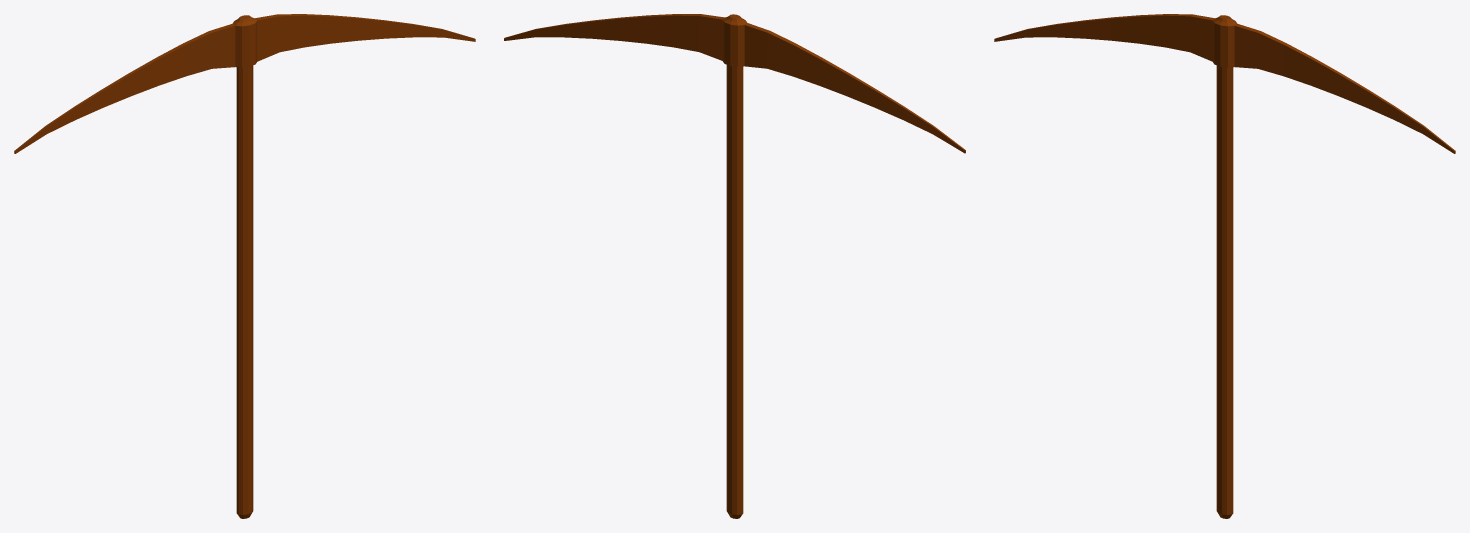
Rendered from Low_Poly_Pickaxe.fbx.
3 views of the same model, side by side, from view 1: azimuth 30°, elevation 25°; view 2: azimuth 150°, elevation 25°; view 3: azimuth 330°, elevation 25° (orthographic).
Visible parts, largest first — view 1: Pickaxe; view 2: Pickaxe; view 3: Pickaxe.
Part boxes in pixels (bbox=[...]): Pickaxe: bbox=[14, 14, 475, 518]; Pickaxe: bbox=[504, 14, 965, 518]; Pickaxe: bbox=[994, 14, 1455, 518].
Bounding box in the file's own units: 1240 × 1287 × 43.29.
